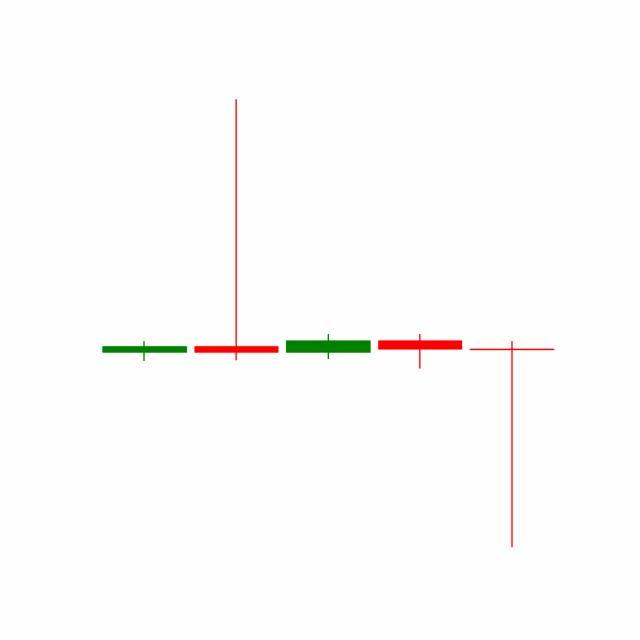Hanging Man: (466, 340, 559, 551)
